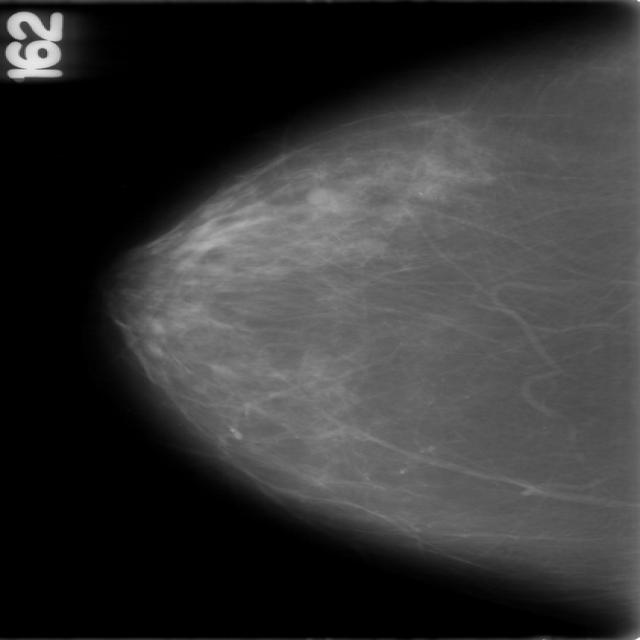tumour: (304, 186, 344, 212)
